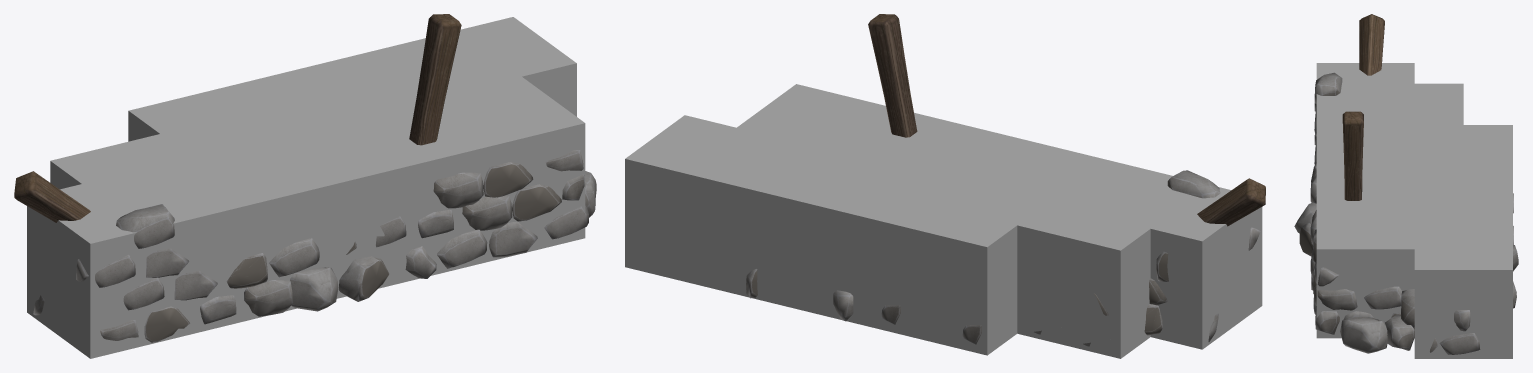
The model's file is moyen_ruin_variant_1.fbx.
The picture shows the model from 3 angles, left to right: view 1: azimuth 30°, elevation 25°; view 2: azimuth 150°, elevation 25°; view 3: azimuth 270°, elevation 25°; orthographic projection. The views are drawn at different scales.
Visible parts, largest first — view 1: standardCube3, group1_brick3_low18; view 2: standardCube3, group1_brick3_low18; view 3: standardCube3, group1_brick3_low18.
Boxes of the visible parts, left/top/right/bottom form: standardCube3: left=27, top=17, right=585, bottom=358; group1_brick3_low18: left=14, top=14, right=596, bottom=342; standardCube3: left=625, top=84, right=1262, bottom=358; group1_brick3_low18: left=746, top=14, right=1265, bottom=346; standardCube3: left=1316, top=63, right=1512, bottom=358; group1_brick3_low18: left=1294, top=14, right=1518, bottom=354.
Size of the model in its own units: 1081 by 422 by 457.
Materials: 2 (1 with a texture image).
